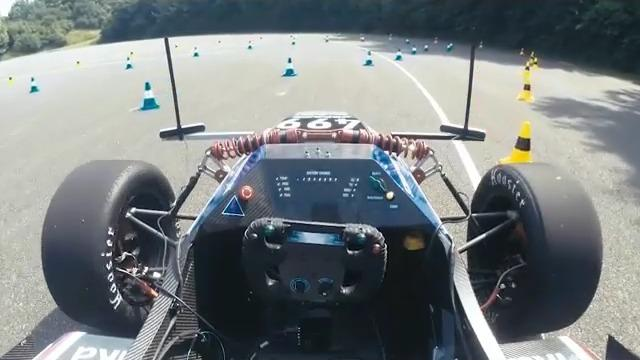blue_cone: (138, 80, 160, 112), (282, 57, 297, 78), (363, 50, 375, 68), (29, 76, 39, 94), (394, 48, 404, 63), (246, 39, 256, 51), (124, 56, 133, 69), (191, 45, 199, 57), (411, 45, 418, 56), (424, 44, 430, 54), (445, 45, 451, 54), (449, 41, 454, 51), (292, 37, 297, 46)
yellow_cone: (496, 118, 537, 171), (519, 77, 534, 103), (521, 61, 531, 79), (74, 59, 83, 74), (532, 58, 540, 72), (529, 53, 536, 69), (7, 74, 16, 86), (128, 50, 136, 61), (217, 39, 223, 51), (259, 35, 265, 47), (520, 47, 526, 58), (175, 43, 180, 56)
